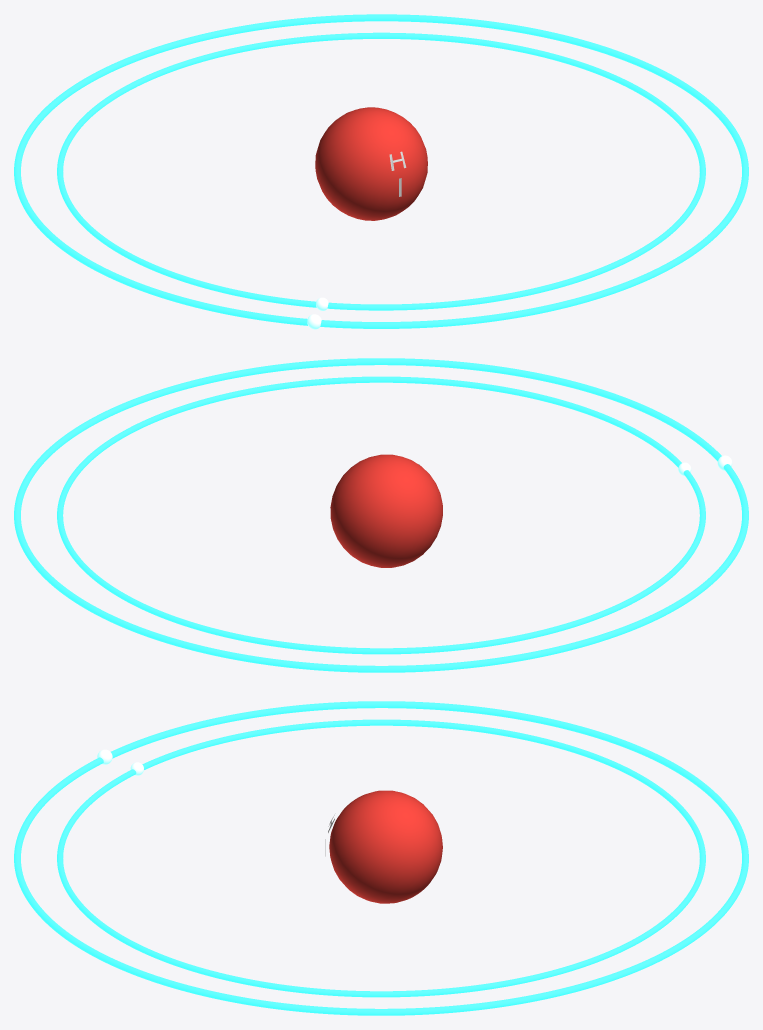
File: Atoms Animation.fbx
3 views of the same model, one above another, from view 1: azimuth 30°, elevation 25°; view 2: azimuth 150°, elevation 25°; view 3: azimuth 270°, elevation 25° (orthographic).
Parts seen in each view (by area): view 1: BézierCircle.001, BézierCircle.002, Sphere.003; view 2: BézierCircle.001, Sphere.003, BézierCircle.002; view 3: BézierCircle.001, Sphere.003, BézierCircle.002.
Boxes of the visible parts, box(x1,y1,x2,y2) form: BézierCircle.001: box(14, 14, 748, 328); BézierCircle.002: box(57, 32, 705, 310); Sphere.003: box(315, 107, 427, 220); BézierCircle.001: box(14, 358, 748, 672); Sphere.003: box(330, 454, 442, 567); BézierCircle.002: box(57, 376, 705, 654); BézierCircle.001: box(14, 701, 748, 1015); Sphere.003: box(329, 790, 442, 903); BézierCircle.002: box(57, 719, 705, 997).
Bounding box in the file's own units: 153 × 23.76 × 153.
